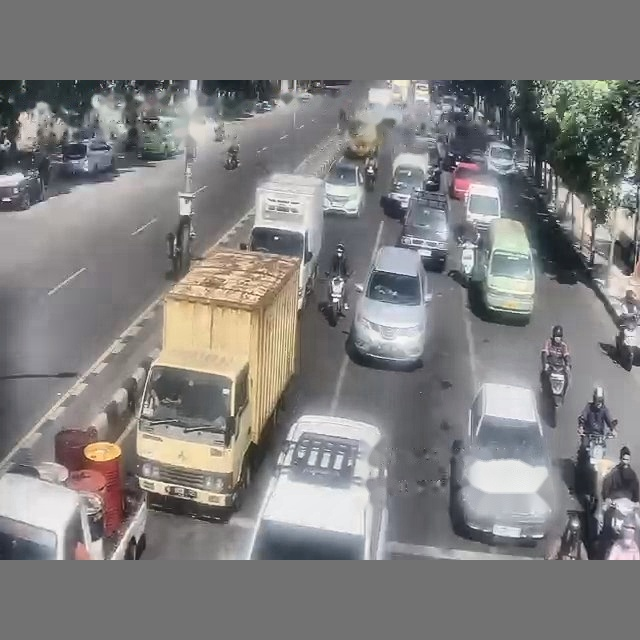Mobil: (247, 415, 388, 559), (450, 383, 557, 541), (349, 246, 432, 365), (399, 192, 448, 270), (0, 151, 44, 210), (323, 161, 364, 216), (61, 138, 114, 174), (465, 182, 501, 231), (449, 162, 480, 199), (485, 141, 517, 176), (468, 148, 486, 166), (256, 100, 271, 112), (298, 90, 312, 101)
Motor: (166, 216, 193, 279), (616, 316, 638, 371), (545, 358, 567, 408), (325, 275, 345, 326), (458, 240, 476, 284), (364, 165, 375, 191), (224, 153, 238, 169)
Truk: (136, 249, 299, 513), (0, 465, 147, 559), (240, 173, 324, 309)
